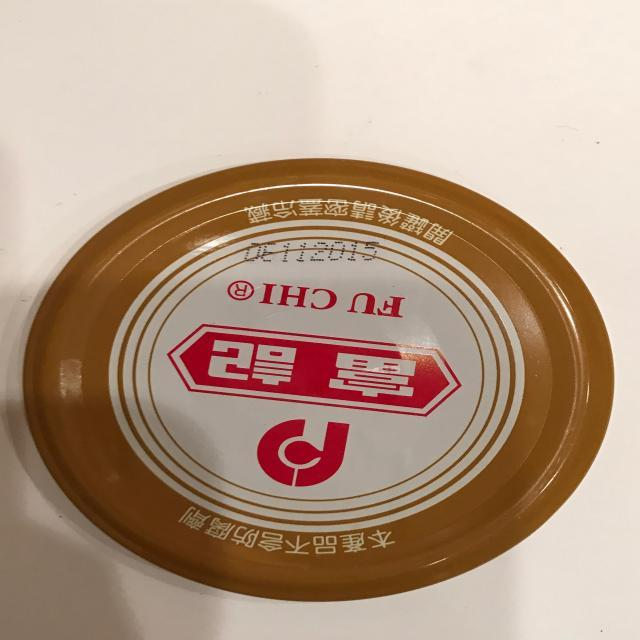metal: (25, 158, 619, 606)
